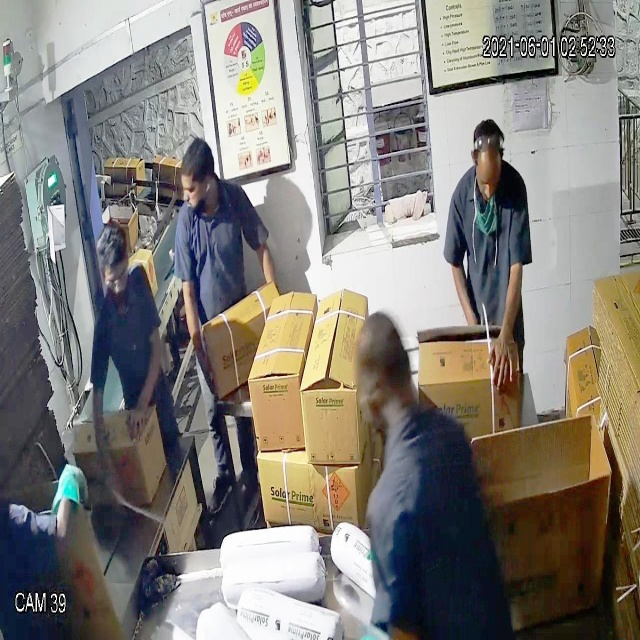Gafas: (102, 262, 131, 299)
